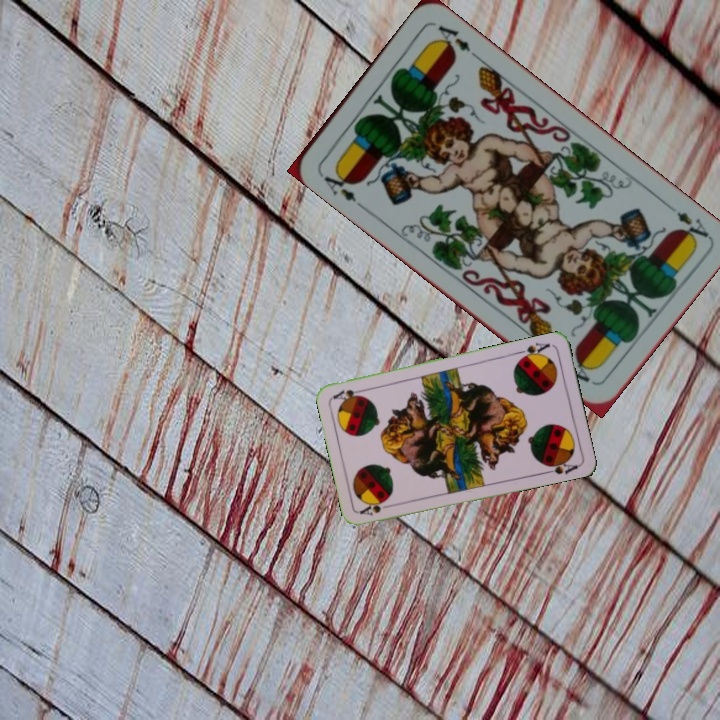EA: (317, 165, 366, 211), (672, 207, 712, 246)
SA: (513, 339, 553, 363), (356, 496, 396, 518)
